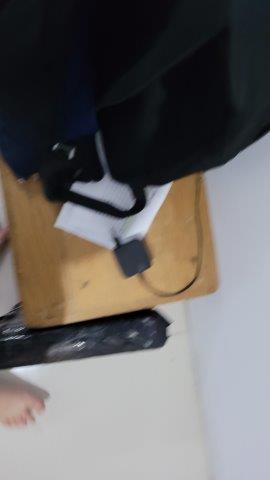kertas: (56, 123, 172, 252)
